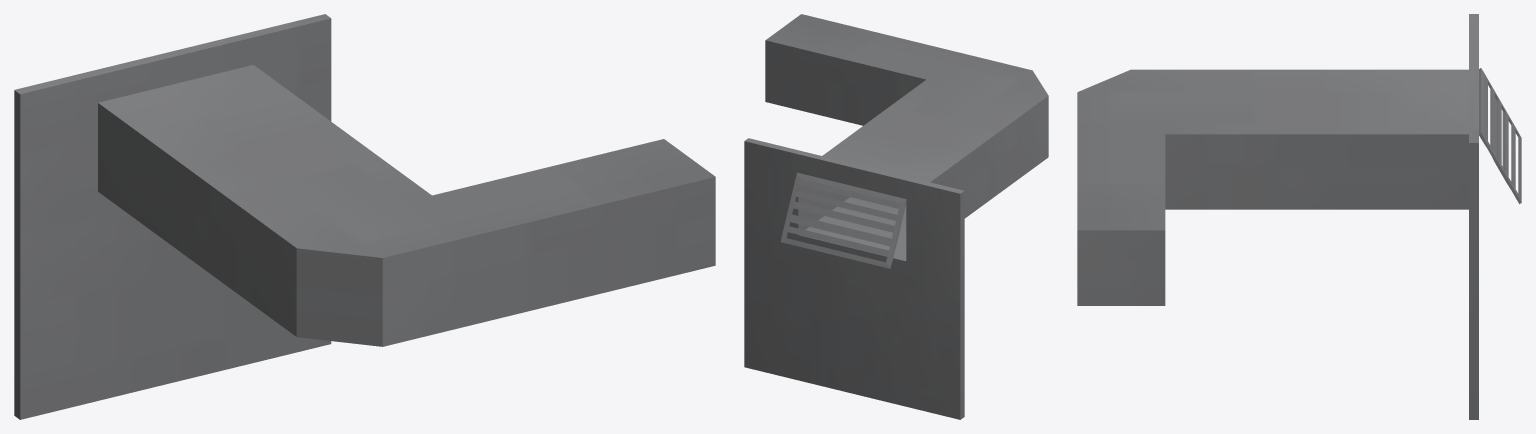
The model's file is pared conducto.fbx.
3 views of the same model, side by side, from view 1: azimuth 30°, elevation 25°; view 2: azimuth 150°, elevation 25°; view 3: azimuth 270°, elevation 25° (orthographic). The views are drawn at different scales.
Visible parts, largest first — view 1: Pared con rejilla; view 2: Pared con rejilla; view 3: Pared con rejilla.
Part boxes in pixels (box(x1,y1,x2,y2)): Pared con rejilla: box(14, 14, 715, 419); Pared con rejilla: box(744, 14, 1048, 419); Pared con rejilla: box(1077, 14, 1521, 419).
Size of the model in its own units: 449 by 300 by 436.
Materials: 1 (1 with a texture image).
